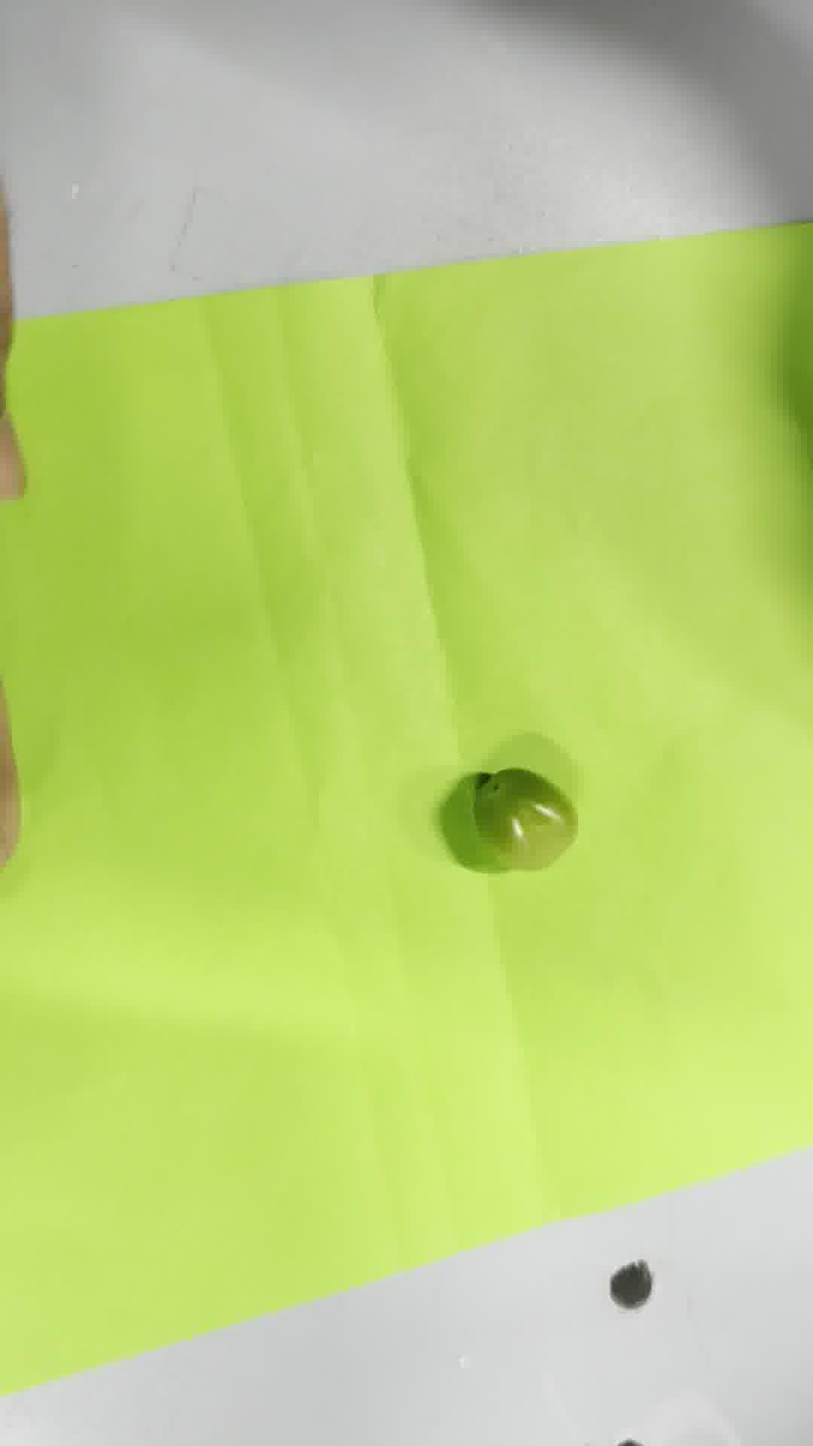green_cherry_tomato: (473, 768, 577, 870)
